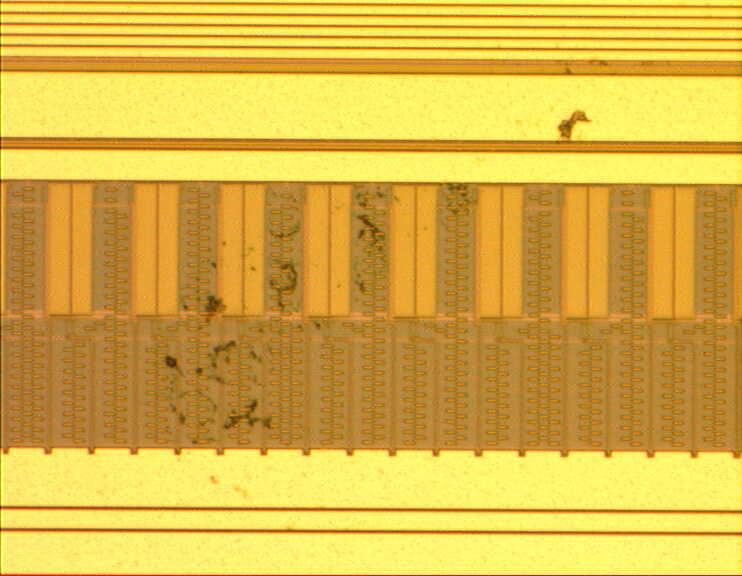PO CONTAMINATION: (159, 49, 616, 447)
